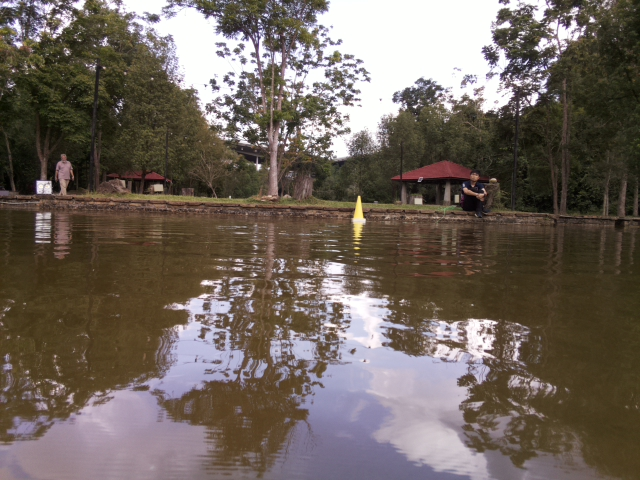checkpoint: (349, 193, 367, 223)
